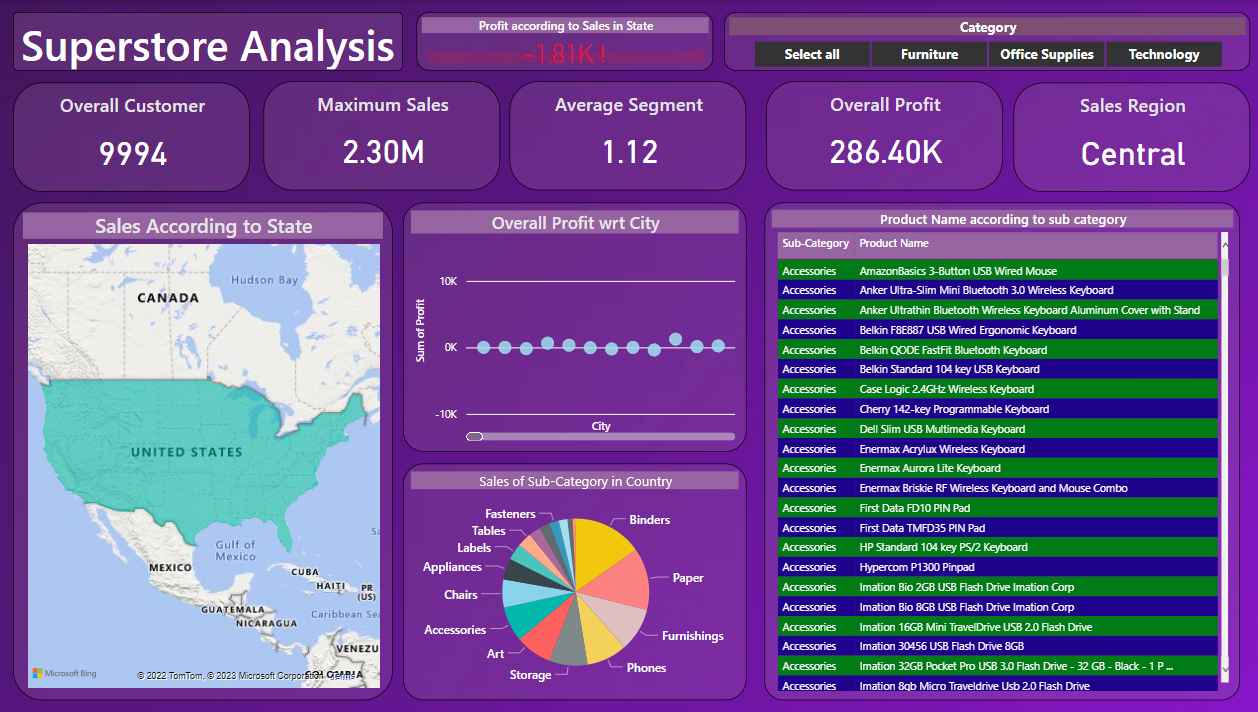

What the dashboard file says about the page in this screenshot:
{"tool":"powerbi","page":{"name":"Page 1","canvas":[1280,720],"ordinal":0},"visuals":[{"type":"card","title":"Overall Customer","fields":{"Values":["CountNonNull(Orders.Customer ID)"]},"box":[18.2,83.4,239.6,110.7],"z":0},{"type":"card","title":"Maximum Sales","fields":{"Values":["Sum(Orders.Sales)"]},"box":[271.5,81.9,239.6,110.7],"z":1000},{"type":"filledMap","title":"Sales According to State","fields":{"Category":["Orders.State"]},"box":[18.2,204.7,383.7,503.5],"z":2000},{"type":"card","title":"Average Segment","fields":{"Values":["Avg(Orders.segment 2)"]},"box":[520.2,81.9,239.6,110.7],"z":3000},{"type":"card","title":"Overall Profit","fields":{"Values":["Sum(Orders.Profit)"]},"box":[779.5,81.9,239.6,110.7],"z":4000},{"type":"slicer","title":"Category","fields":{"Values":["Orders.Category"]},"box":[737.1,12.1,532.3,59.1],"z":5000},{"type":"card","title":"Sales Region","fields":{"Values":["Min(Orders.Region)"]},"box":[1029.8,83.4,239.6,110.7],"z":6000},{"type":"scatterChart","title":"Overall Profit wrt City","fields":{"Y":["Sum(Orders.Profit)"],"X":["Orders.City"]},"box":[412.5,204.7,347.3,251.8],"z":7000},{"type":"pieChart","title":"Sales of Sub-Category in Country","fields":{"Category":["Orders.Sub-Category"],"Y":["CountNonNull(Orders.Country)"]},"box":[412.5,468.6,347.3,239.6],"z":7001},{"type":"tableEx","title":"Product Name according to sub category","fields":{"Values":["Orders.Sub-Category","Orders.Product Name"]},"box":[778,204.7,480.8,503.5],"z":7002},{"type":"textbox","title":"Superstore Analysis","box":[18.2,12.1,394.3,59.1],"z":7003},{"type":"kpi","title":"Profit according to Sales in State","fields":{"TrendLine":["Orders.Sales"],"Indicator":["Sum(Orders.Profit)"],"Goal":["CountNonNull(Orders.State)"]},"box":[426.2,12.1,300.3,59.1],"z":7004}]}

Visuals, with their boxes in screenshot pixels (x1, y1, x2, y2), scaled from the page's 1280x720 canvas onto the 1258x712 screenshot:
"Overall Customer" card: <region>18, 82, 253, 192</region>
"Maximum Sales" card: <region>267, 81, 502, 190</region>
"Sales According to State" filledMap: <region>18, 202, 395, 700</region>
"Average Segment" card: <region>511, 81, 747, 190</region>
"Overall Profit" card: <region>766, 81, 1002, 190</region>
"Category" slicer: <region>724, 12, 1248, 70</region>
"Sales Region" card: <region>1012, 82, 1248, 192</region>
"Overall Profit wrt City" scatterChart: <region>405, 202, 747, 451</region>
"Sales of Sub-Category in Country" pieChart: <region>405, 463, 747, 700</region>
"Product Name according to sub category" tableEx: <region>765, 202, 1237, 700</region>
"Superstore Analysis" textbox: <region>18, 12, 405, 70</region>
"Profit according to Sales in State" kpi: <region>419, 12, 714, 70</region>
